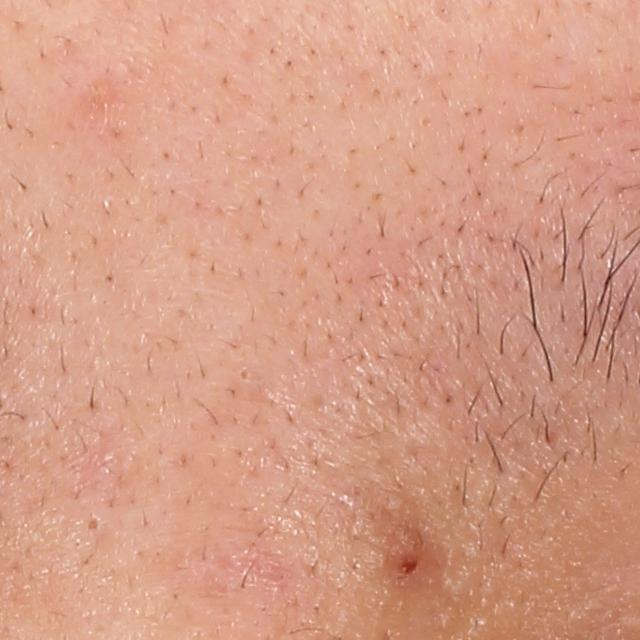comedo: (78, 513, 109, 541), (236, 365, 254, 384)
papule: (384, 533, 439, 584)
